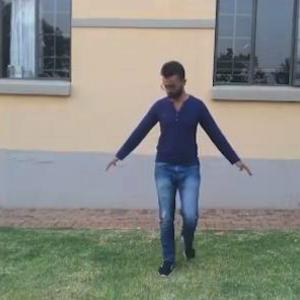land: (83, 48, 251, 264)
